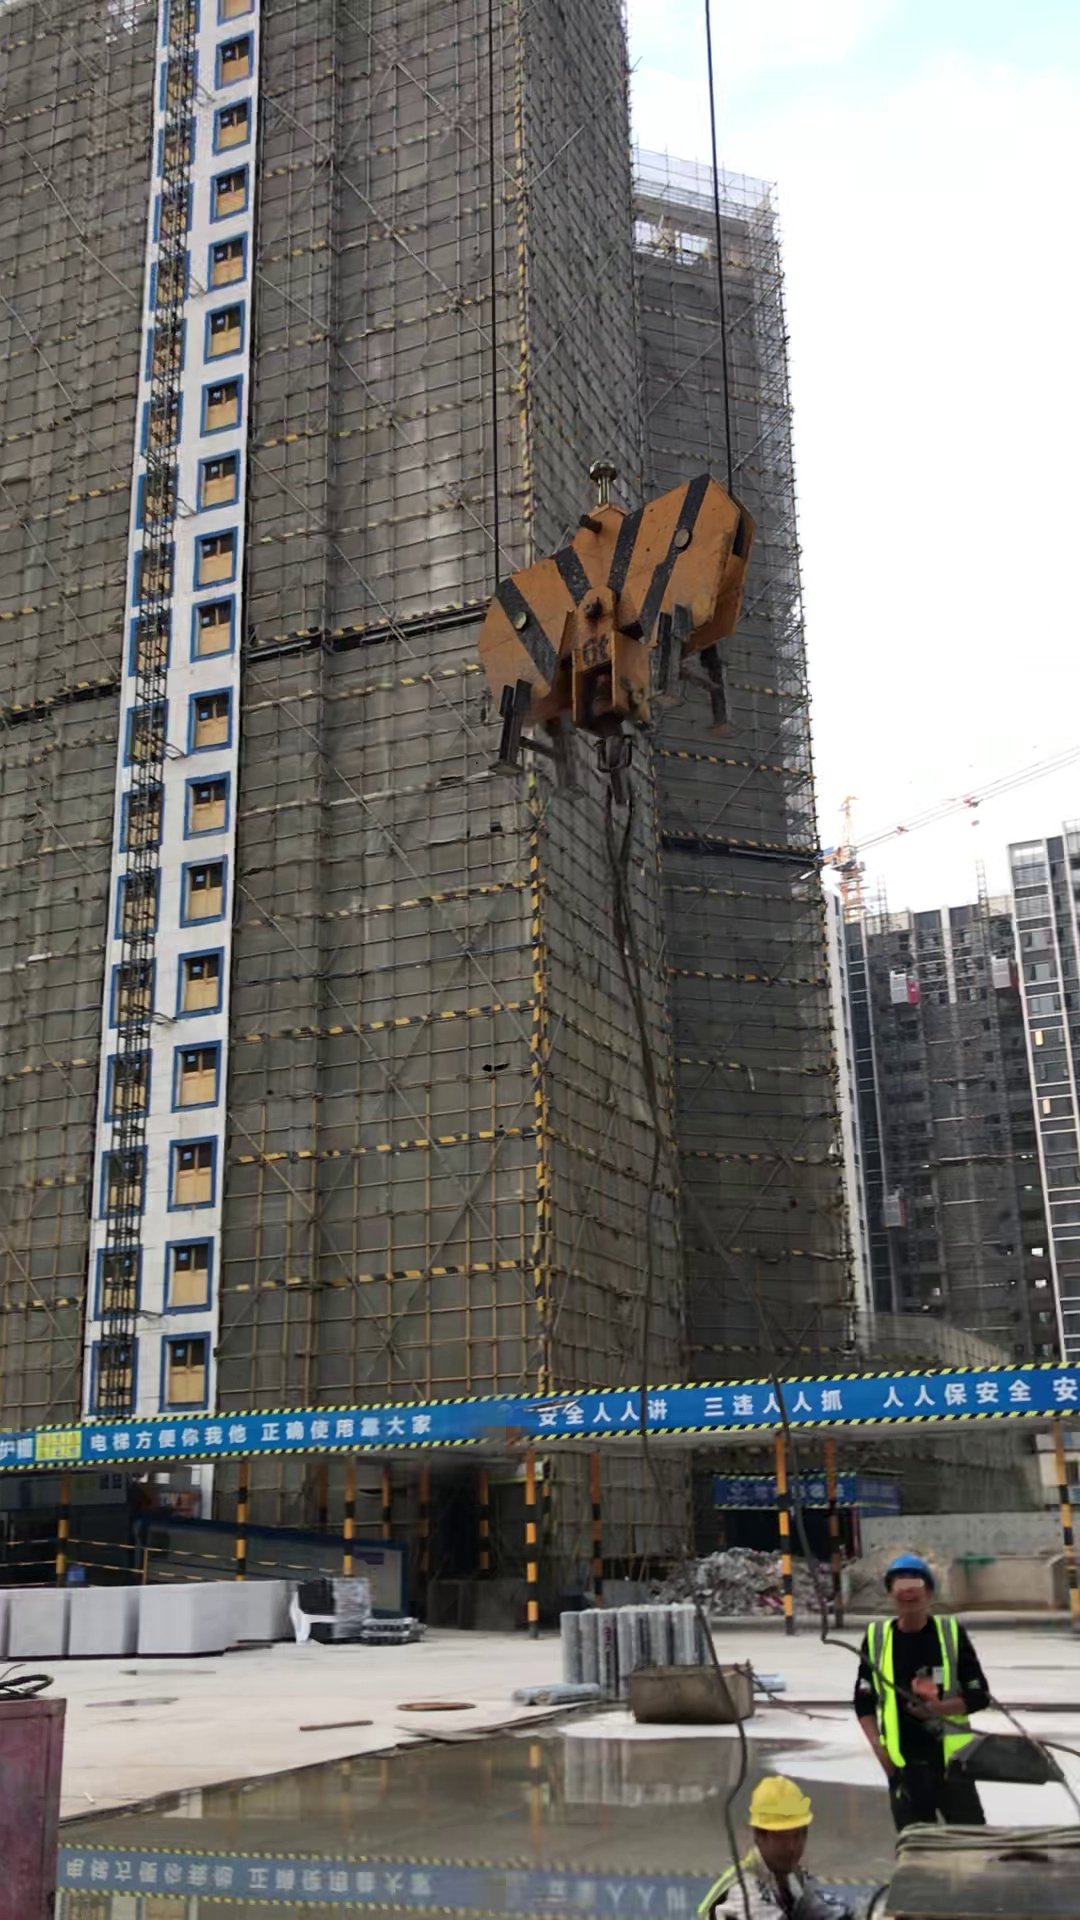brick: (1, 1566, 289, 1664)
helmet: (745, 1768, 820, 1838), (883, 1553, 933, 1591)
hook: (454, 442, 770, 779)
hopper: (623, 1653, 764, 1733)
person: (857, 1539, 1036, 1831), (699, 1762, 859, 1920)
slogan: (26, 1341, 1080, 1494)
vest: (857, 1616, 987, 1781), (698, 1847, 825, 1920)
